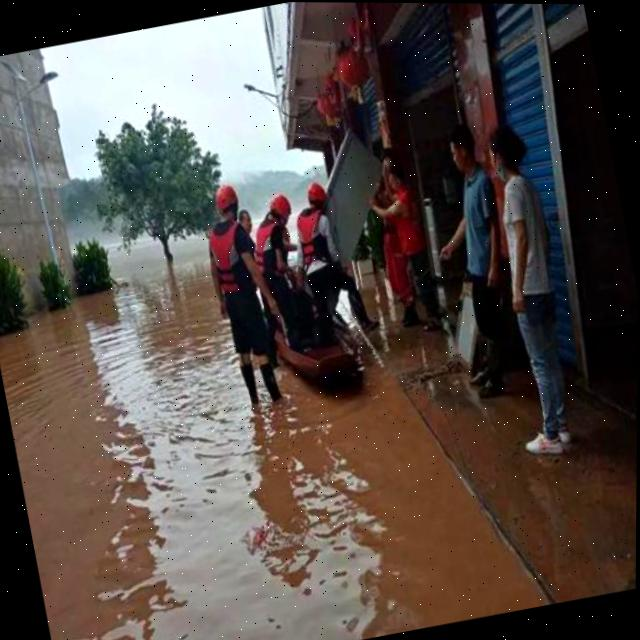civilian: (460, 117, 597, 476), (415, 122, 533, 404), (363, 160, 453, 347), (233, 200, 260, 239)
rescuer: (181, 178, 302, 429), (278, 167, 388, 353), (242, 183, 322, 362)
